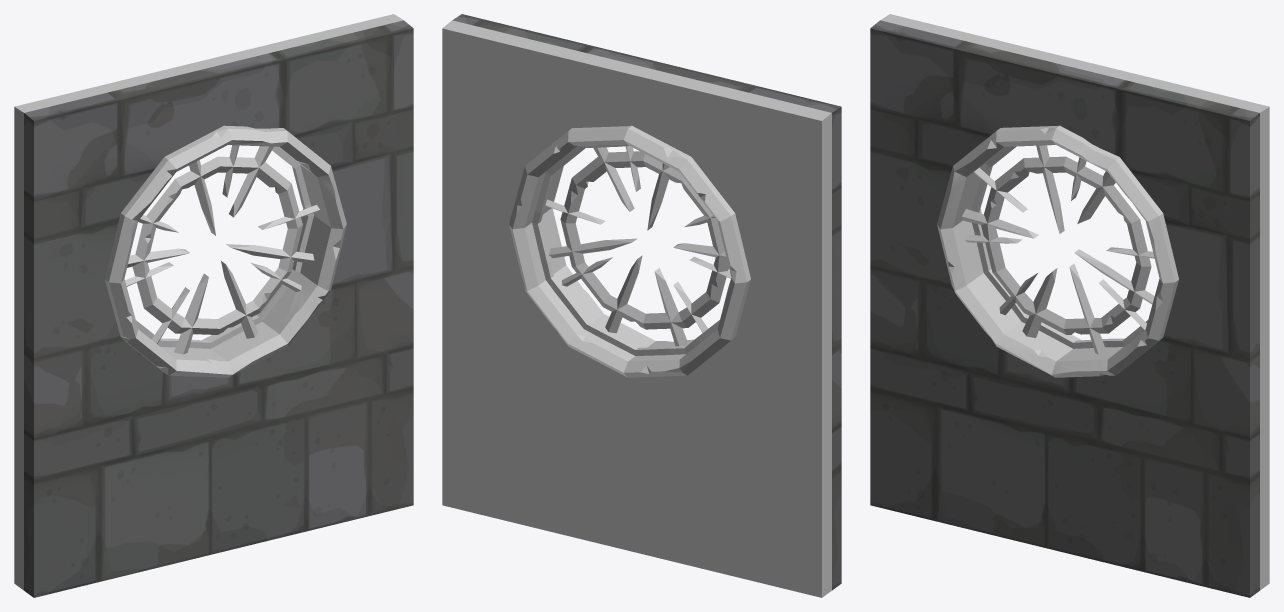
Rendered from SM_Bld_Wall_L_Window_07.fbx.
The picture shows the model from 3 angles, left to right: view 1: azimuth 30°, elevation 25°; view 2: azimuth 150°, elevation 25°; view 3: azimuth 330°, elevation 25°; orthographic projection.
Visible parts, largest first — view 1: SM_Bld_Wall_L_Window_07; view 2: SM_Bld_Wall_L_Window_07; view 3: SM_Bld_Wall_L_Window_07.
Part boxes in pixels (x1,y1,x2,y2): SM_Bld_Wall_L_Window_07: (14, 14, 413, 597); SM_Bld_Wall_L_Window_07: (442, 14, 841, 597); SM_Bld_Wall_L_Window_07: (870, 14, 1269, 597).
Bounding box in the file's own units: 500 × 601 × 83.38.
